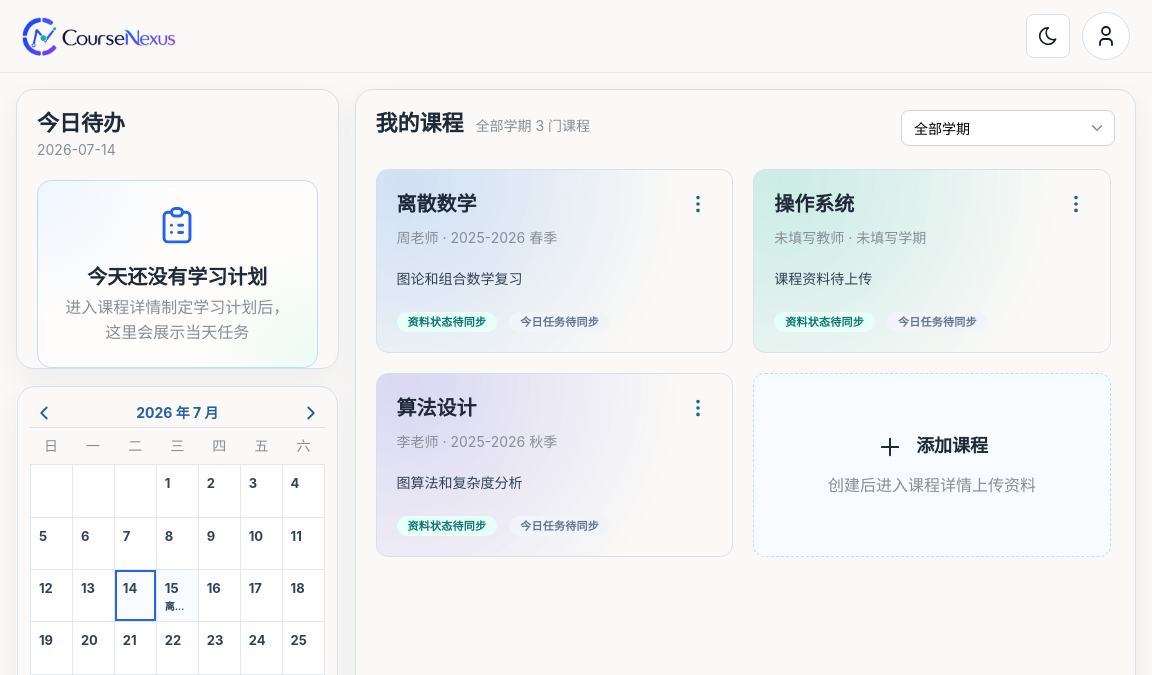
Scenario: HomePage › toggles the persisted color scheme from the home header
Expected: the link "离散数学" is shown, [396, 192, 476, 216]
Click the button named "切换为夜间模式": {"x": 1048, "y": 36} [1026, 14, 1070, 58]
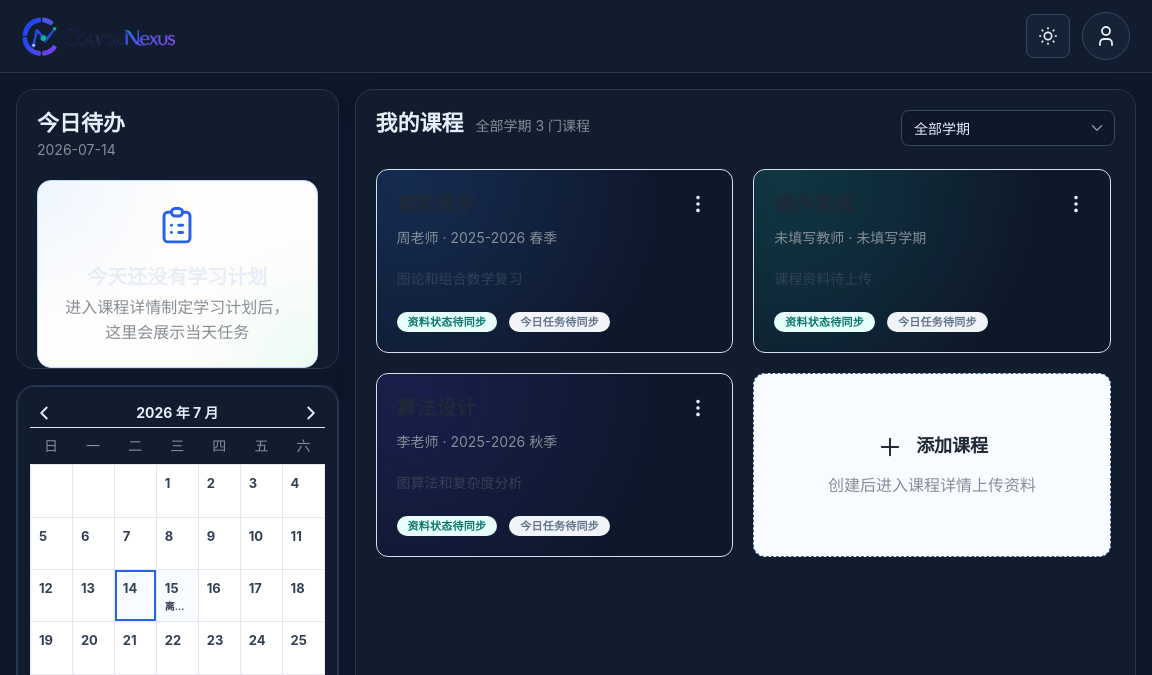
Now the button named "切换为日间模式" is shown, box [1026, 14, 1070, 58]
